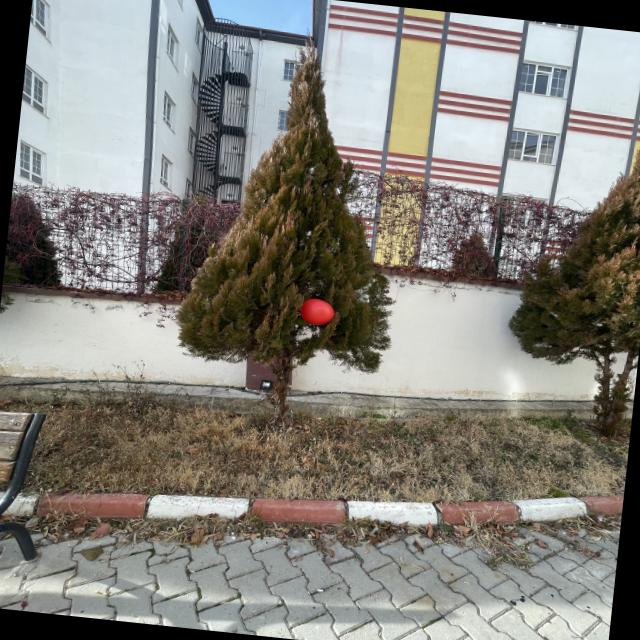balloon: (300, 298, 334, 325)
